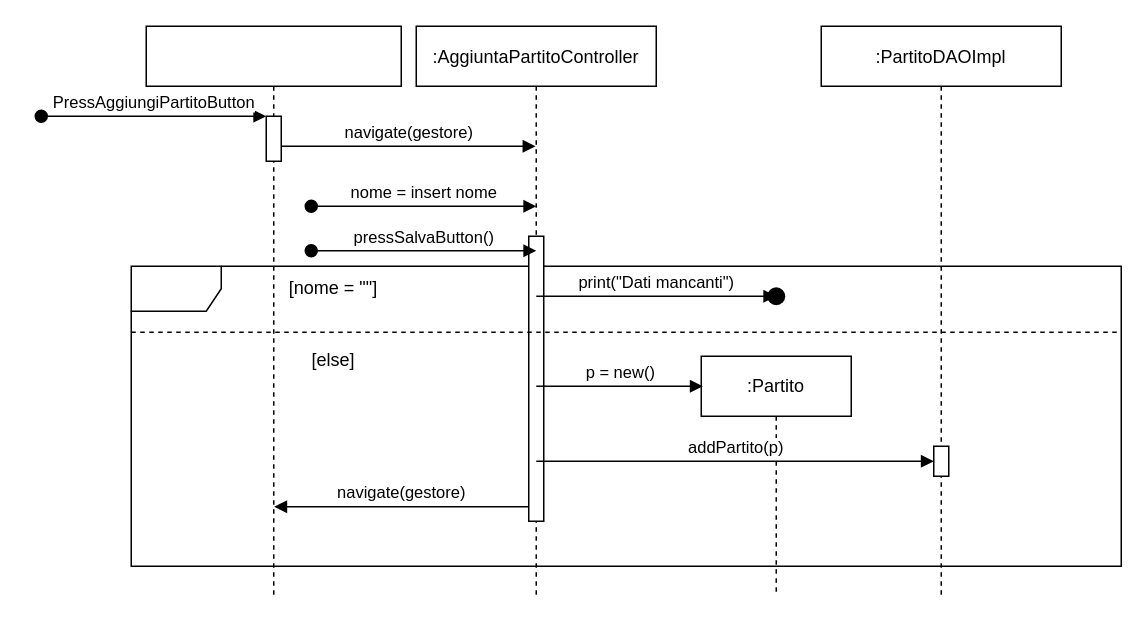
This 1148x623 diagram has some shape labels left out. The box of each missing label's shape, as (x1, y1, x2, y2) in pixels:
:GestioneListeController: (145, 25, 401, 596)
alt: (130, 265, 1121, 566)
